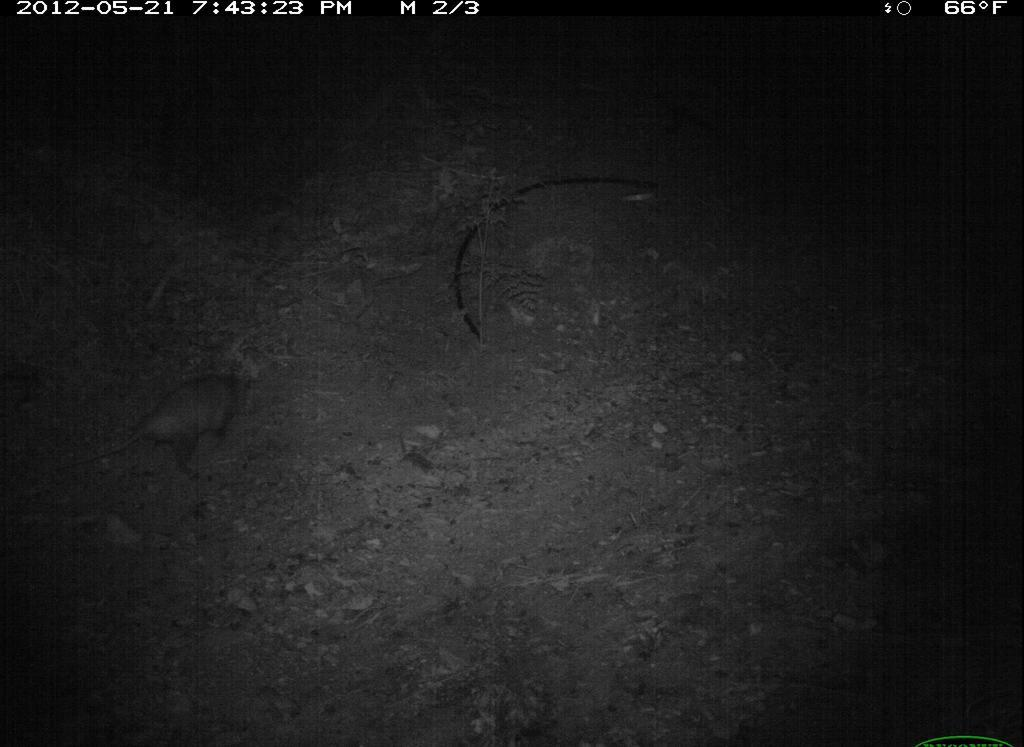opossum: (85, 368, 272, 482)
